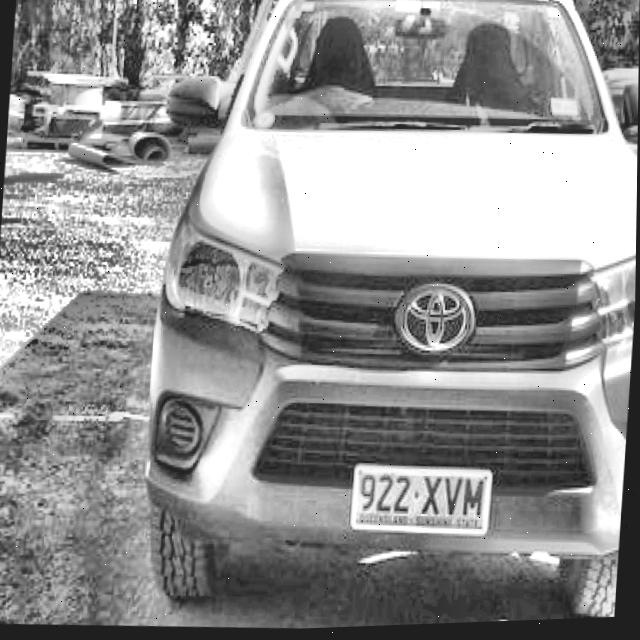light_vehicle: (114, 0, 640, 636)
